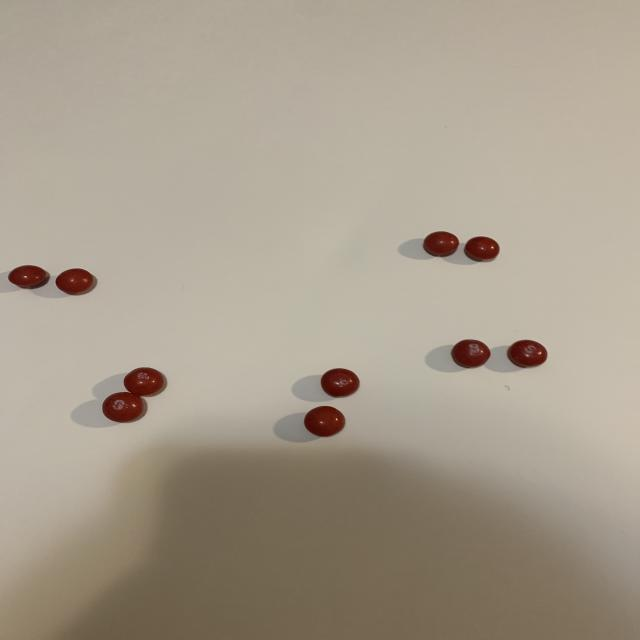smartie: (101, 392, 144, 423), (305, 407, 345, 437), (320, 369, 360, 398), (507, 340, 548, 368), (123, 368, 164, 396), (452, 340, 491, 368), (54, 268, 92, 294), (423, 231, 459, 256), (8, 265, 47, 288), (465, 236, 500, 261)
